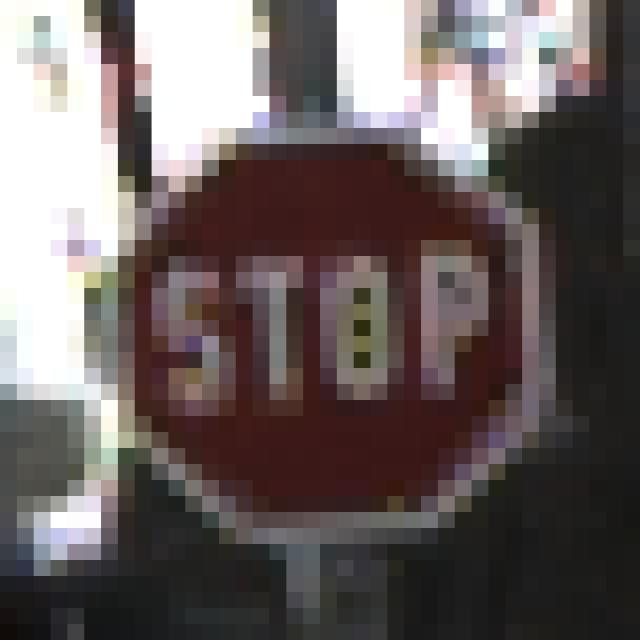STOP: (85, 97, 557, 545)
